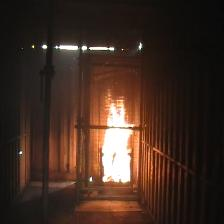fire: (102, 89, 134, 182)
